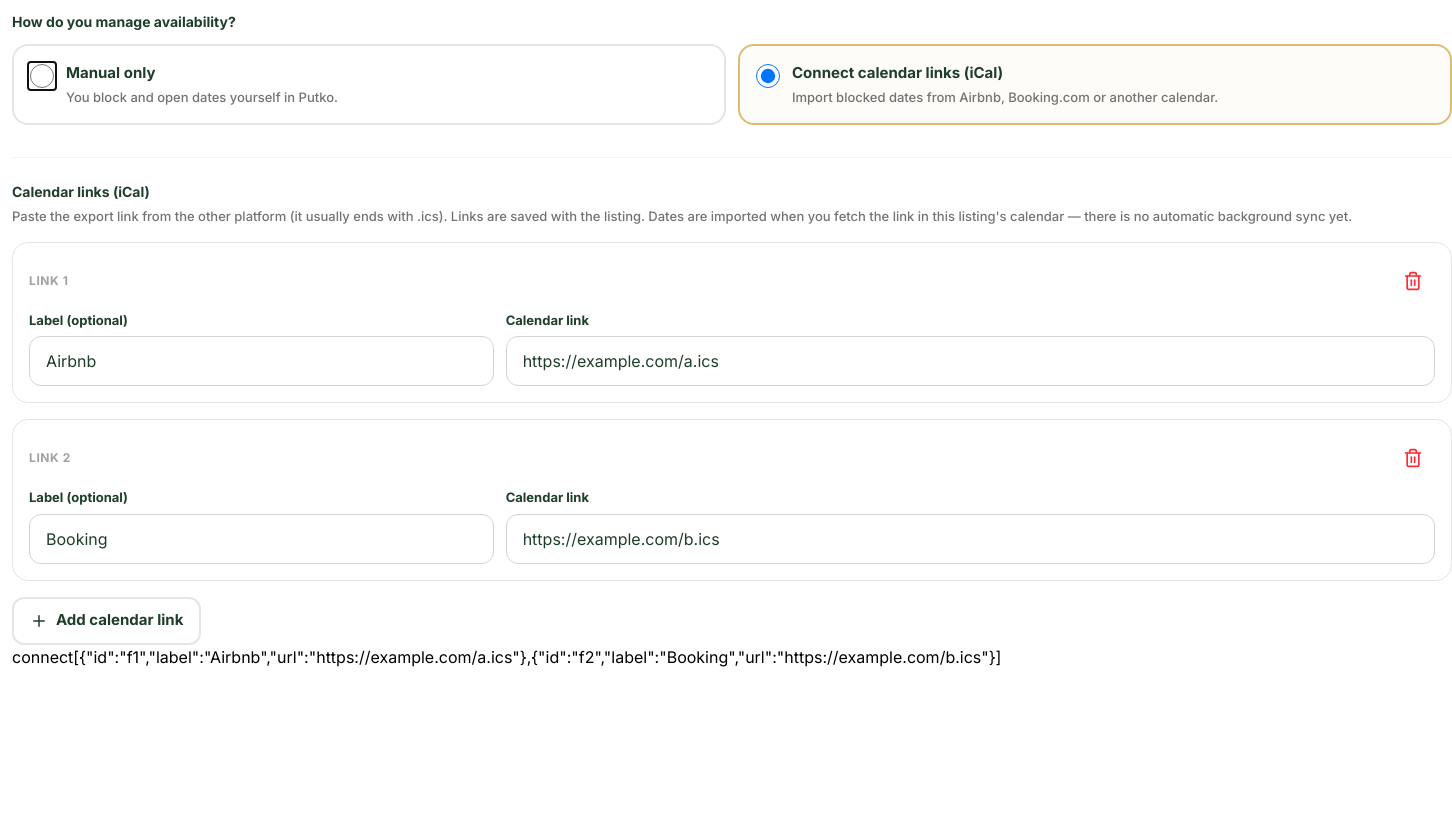
Scenario: Editor step 8 — manual only vs connected links › Escape keeps the links connected and returns focus to the radio that opened the confirmation
This screenshot has width=1452, height=822.
Click the radio button labelled "Manual only You block and open dates yourself in Putko.": (42, 76) [30,64,54,88]
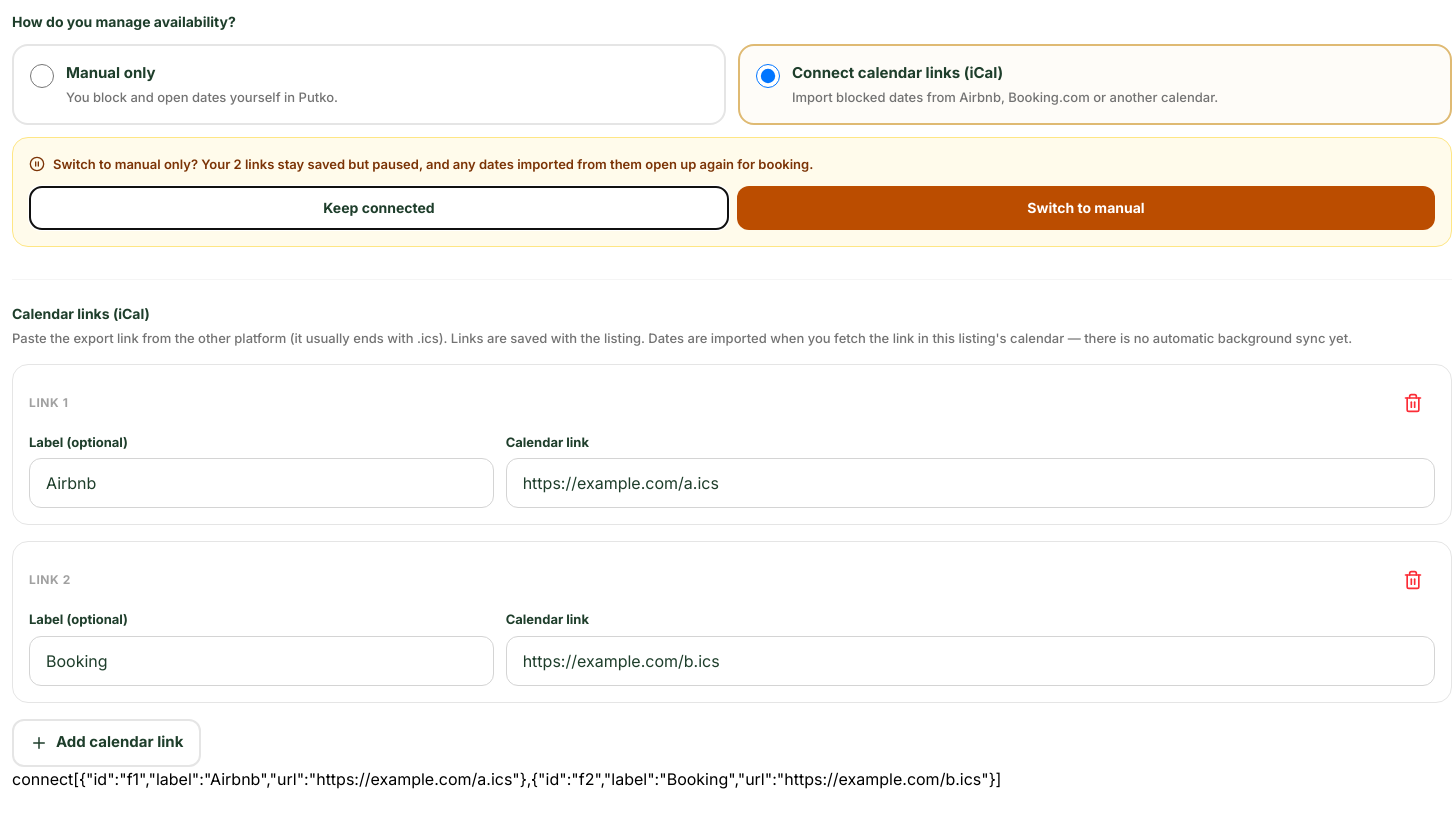
Press Escape in the button "Keep connected", box [29,186,729,230]
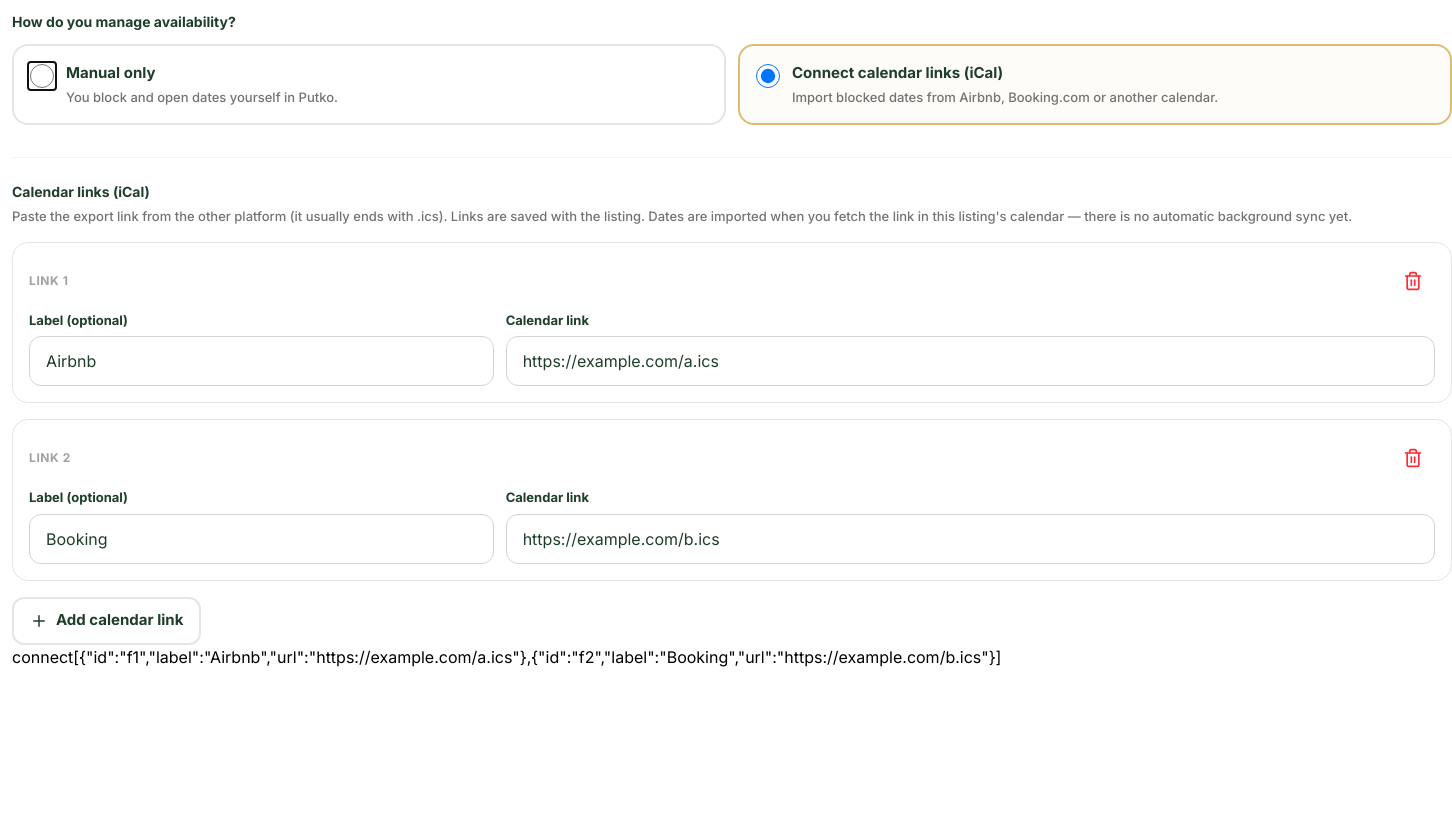
Expected: the text with test id "choice" reads "connect", [12,646,73,666]
Now the message is gone
